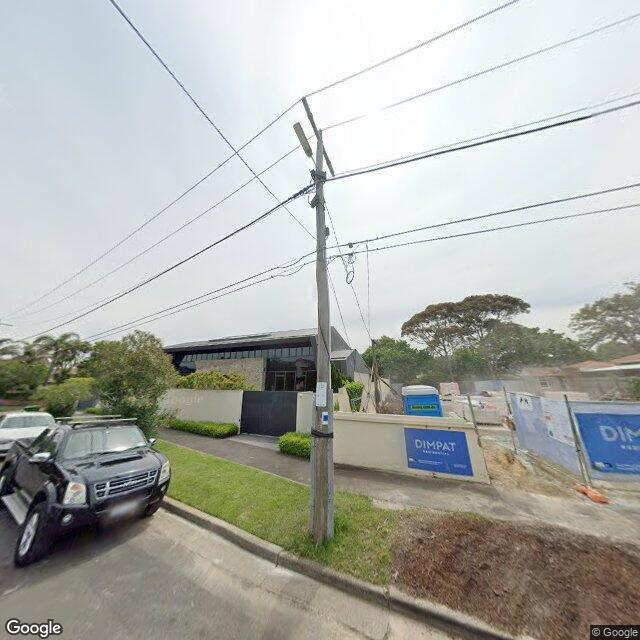HV-transmission: (301, 96, 335, 177)
crossarm: (310, 121, 331, 163)
streetlight: (292, 122, 318, 169)
timber-pole: (307, 140, 335, 542)
